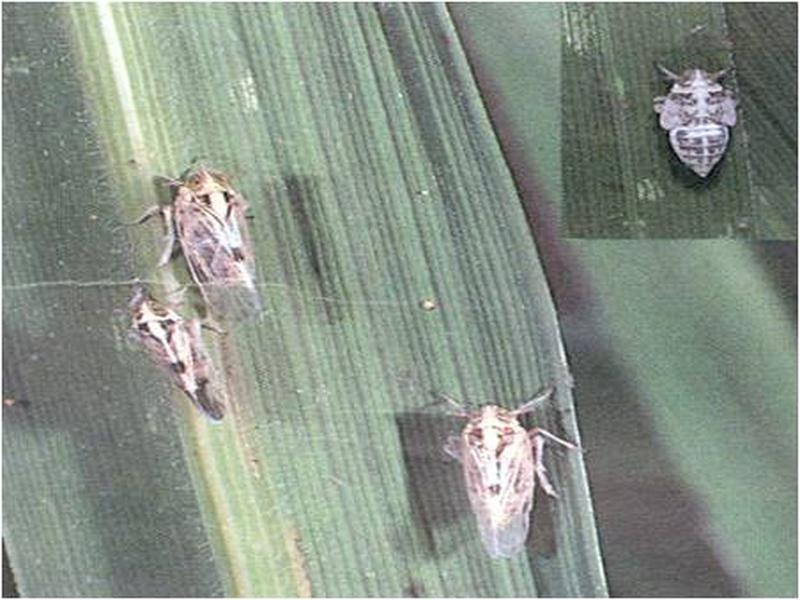Brown_plant_leafhopper: (140, 162, 264, 424), (430, 389, 567, 568), (634, 44, 739, 214)
